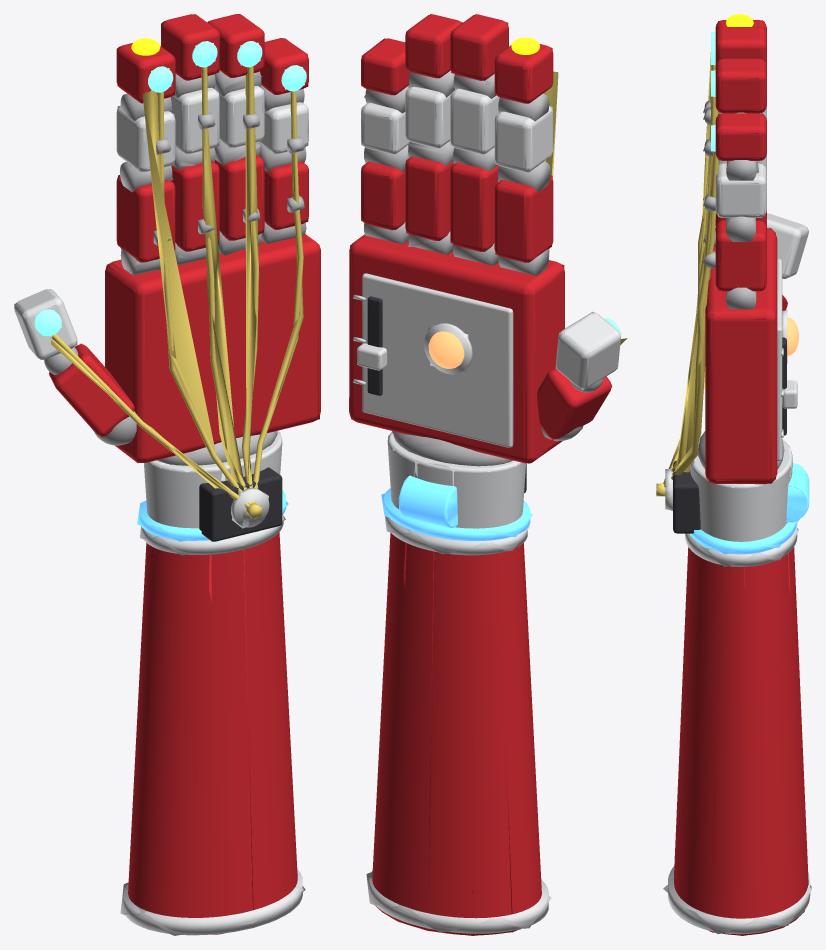
The model's file is Protesis_Mano_LODs.fbx.
The picture shows the model from 3 angles, left to right: view 1: azimuth 30°, elevation 25°; view 2: azimuth 150°, elevation 25°; view 3: azimuth 270°, elevation 25°; orthographic projection. The views are drawn at different scales.
Visible parts, largest first — view 1: Antebrazo_L0, Palma_L0, Antebrazo_L1, F2_Cable_Indice_L2, F2_Cable_Medio_L2, Pulgar_Proximal_L0, F2_Servomotor_L0, Indice_Proximal_L0, Muneca_Conector_L0, F2_Cable_Anular_L2, Medio_Proximal_L0, Anular_Proximal_L0 (+29 smaller); view 2: Antebrazo_L0, Antebrazo_L1, Palma_Placa_Dorso_L0, Palma_L0, Muneca_Conector_L0, Indice_Proximal_L0, Medio_Proximal_L0, Pulgar_Distal_L0, Anular_Proximal_L0, Pulgar_Proximal_L0, Indice_Media_L0, Medio_Distal_L0 (+29 smaller); view 3: Antebrazo_L0, Antebrazo_L1, Palma_L0, Muneca_Conector_L0, Menique_Proximal_L0, Anular_Distal_L0, Muneca_Conector_L1, Menique_Distal_L0, Menique_Media_L0, F2_Cable_Anular_L2, Medio_Distal_L0, F2_Cable_Menique_L0 (+26 smaller).
Boxes of the visible parts, x1,y1,x2,y2 form: Antebrazo_L0: [129, 532, 297, 917]; Palma_L0: [105, 234, 320, 462]; Antebrazo_L1: [128, 533, 297, 917]; F2_Cable_Indice_L2: [142, 90, 249, 504]; F2_Cable_Medio_L2: [201, 74, 251, 503]; Pulgar_Proximal_L0: [49, 344, 134, 436]; F2_Servomotor_L0: [199, 467, 282, 541]; Indice_Proximal_L0: [116, 175, 175, 262]; Muneca_Conector_L0: [144, 431, 282, 528]; F2_Cable_Anular_L2: [245, 68, 259, 502]; Medio_Proximal_L0: [171, 162, 219, 251]; Anular_Proximal_L0: [214, 156, 264, 240]; Antebrazo_L0: [372, 533, 541, 935]; Antebrazo_L1: [372, 533, 540, 935]; Palma_Placa_Dorso_L0: [362, 273, 513, 447]; Palma_L0: [349, 234, 564, 463]; Muneca_Conector_L0: [387, 432, 525, 528]; Indice_Proximal_L0: [494, 177, 553, 262]; Medio_Proximal_L0: [450, 162, 498, 251]; Pulgar_Distal_L0: [555, 312, 620, 388]; Anular_Proximal_L0: [405, 156, 453, 240]; Pulgar_Proximal_L0: [537, 368, 611, 439]; Indice_Media_L0: [494, 106, 553, 172]; Medio_Distal_L0: [450, 15, 508, 80]; Antebrazo_L0: [674, 546, 808, 935]; Antebrazo_L1: [673, 547, 808, 935]; Palma_L0: [705, 228, 777, 483]; Muneca_Conector_L0: [690, 439, 792, 541]; Menique_Proximal_L0: [715, 220, 766, 291]; Anular_Distal_L0: [715, 58, 766, 113]; Muneca_Conector_L1: [690, 439, 792, 541]; Menique_Distal_L0: [715, 113, 766, 160]; Menique_Media_L0: [715, 163, 766, 217]; F2_Cable_Anular_L2: [664, 101, 719, 484]; Medio_Distal_L0: [715, 27, 766, 65]; F2_Cable_Menique_L0: [664, 151, 718, 487].
Size of the model in its own units: 2.35 by 7.35 by 1.21.
